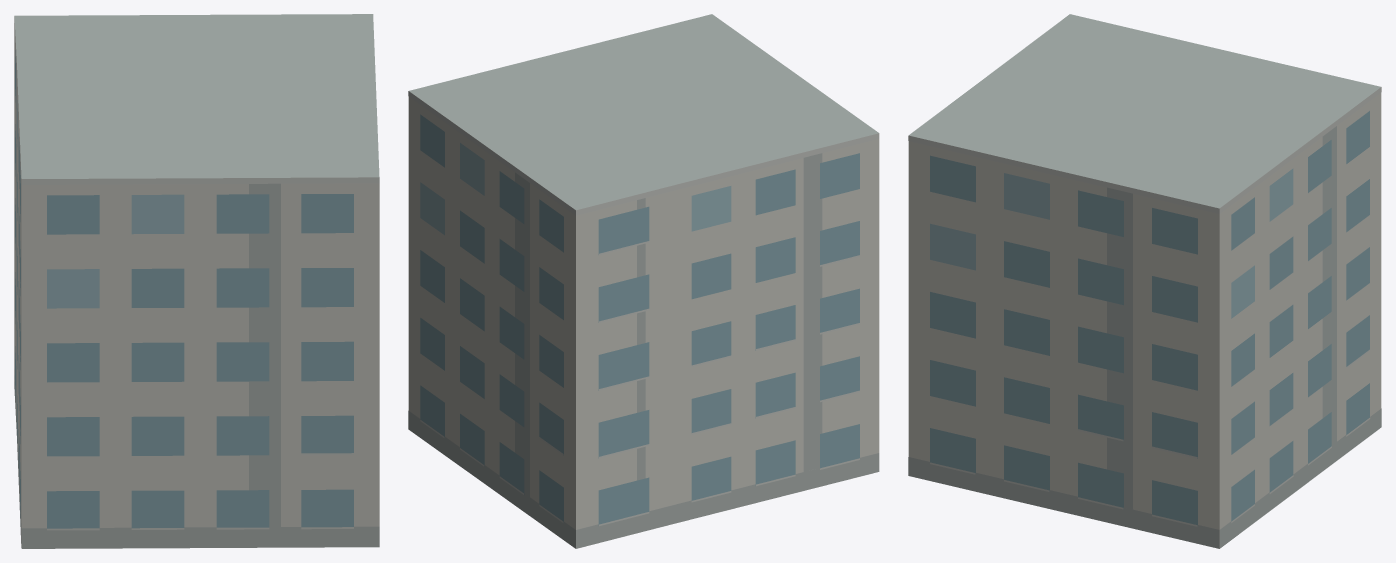
The model's file is survey-upis-32877637.glb.
The picture shows the model from 3 angles, left to right: view 1: azimuth 30°, elevation 25°; view 2: azimuth 150°, elevation 25°; view 3: azimuth 270°, elevation 25°; orthographic projection. The views are drawn at different scales.
Visible parts, largest first — view 1: survey-upis-32877637.tmp; view 2: survey-upis-32877637.tmp; view 3: survey-upis-32877637.tmp.
Part boxes in pixels (x1,y1,x2,y2): survey-upis-32877637.tmp: (14,14,379,548); survey-upis-32877637.tmp: (408,14,879,548); survey-upis-32877637.tmp: (908,14,1381,548).
Size of the model in its own units: 18.7 by 15.25 by 19.21.
